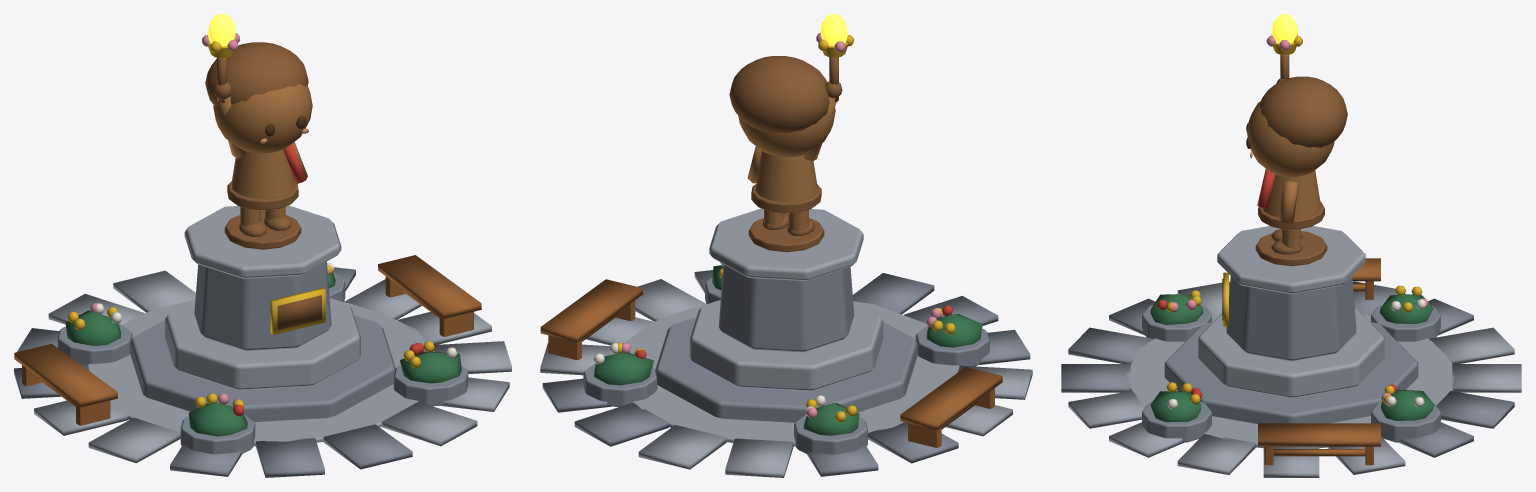
File: statue.glb
3 renders of one model, left to right at view 1: azimuth 30°, elevation 25°; view 2: azimuth 150°, elevation 25°; view 3: azimuth 270°, elevation 25°, orthographic. The views are drawn at different scales.
Visible parts, largest first — view 1: exterior, floor; view 2: exterior, floor; view 3: exterior, floor.
Boxes of the visible parts, left/top/right/bottom form: exterior: left=14, top=14, right=481, bottom=454; floor: left=14, top=267, right=511, bottom=477; exterior: left=540, top=14, right=1002, bottom=454; floor: left=540, top=270, right=1032, bottom=477; exterior: left=1142, top=14, right=1440, bottom=465; floor: left=1061, top=281, right=1521, bottom=477.
Size of the model in its own units: 4.12 by 3.42 by 4.12.
